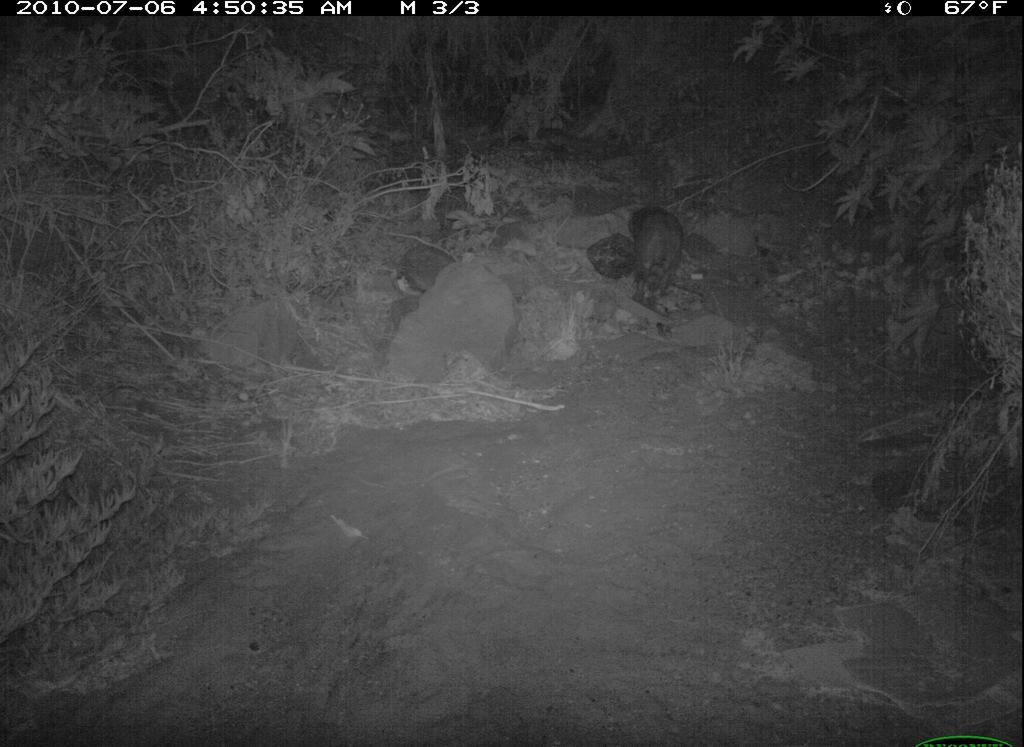raccoon: (609, 193, 708, 333)
